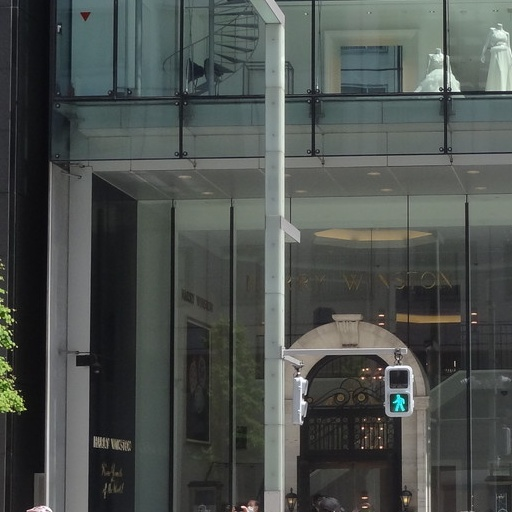Pedestrian_Signal_Blue: (377, 358, 412, 420)
